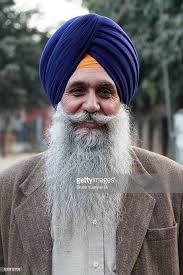helmet: (37, 14, 142, 156)
